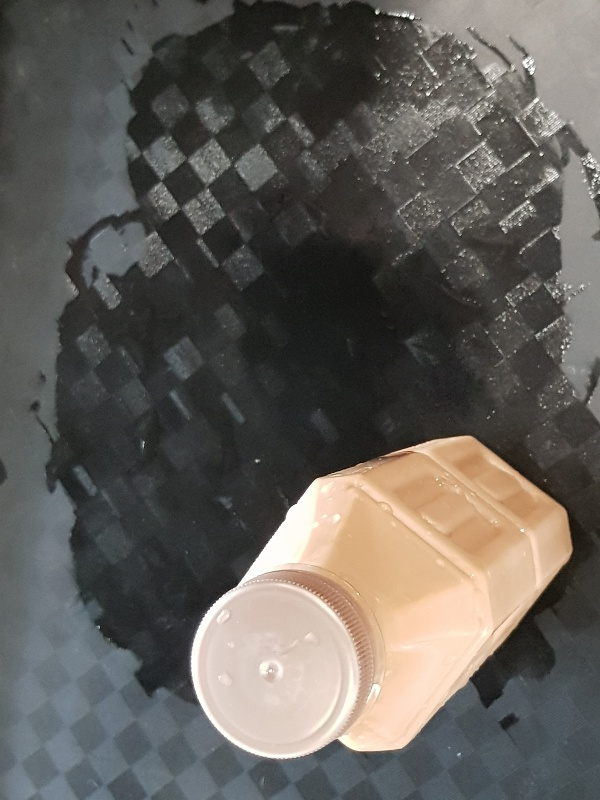Mocha: (187, 434, 573, 761)
